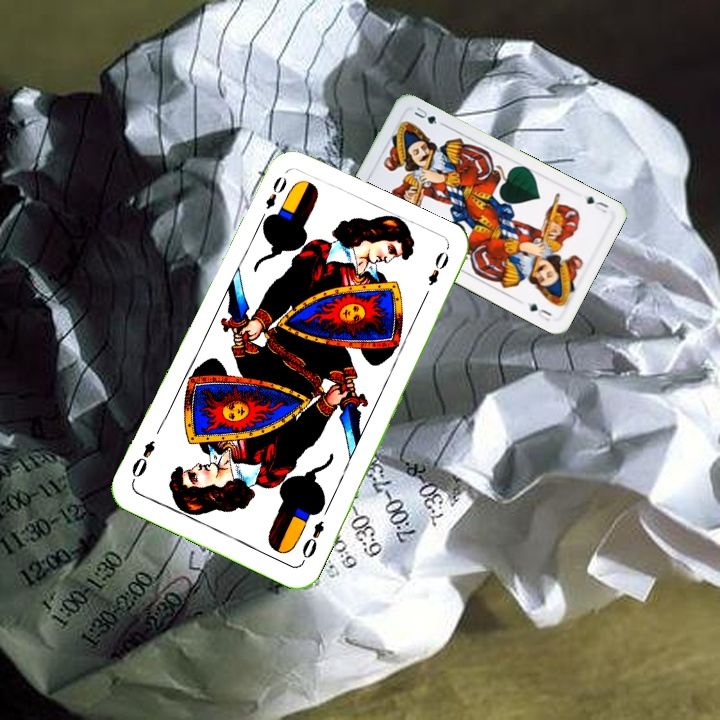EO: (255, 172, 290, 226), (297, 516, 327, 566)
GU: (579, 192, 611, 215)
